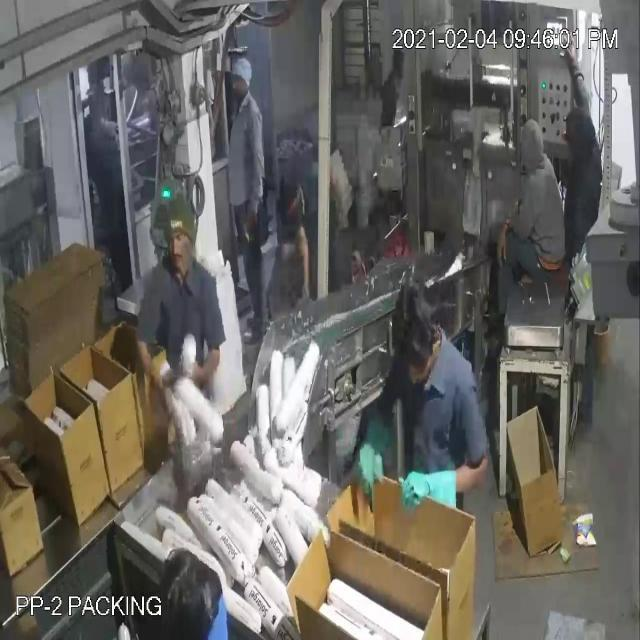No_Gloves: (22, 67, 579, 494)
